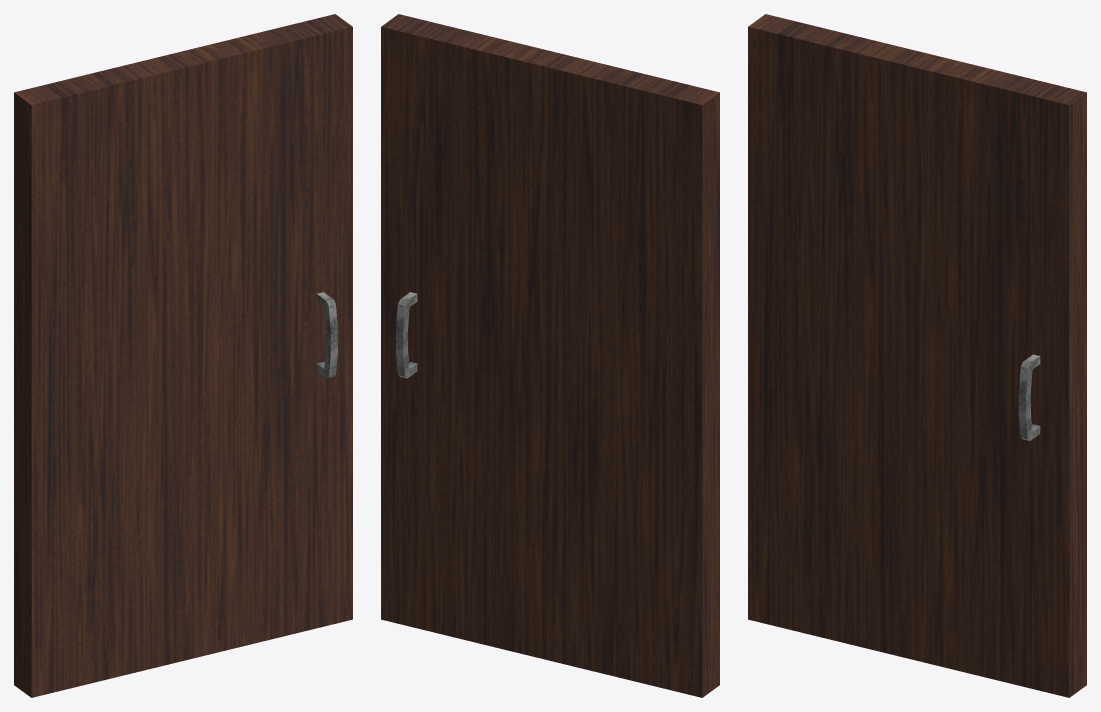
The model's file is Door.fbx.
3 renders of one model, left to right at view 1: azimuth 30°, elevation 25°; view 2: azimuth 150°, elevation 25°; view 3: azimuth 330°, elevation 25°, orthographic.
Visible parts, largest first — view 1: pCube21, pCube42; view 2: pCube21, pCube43; view 3: pCube21, pCube42.
Boxes of the visible parts, x1,y1,x2,y2 form: pCube21: (14, 14, 352, 697); pCube42: (316, 292, 337, 378); pCube21: (381, 14, 719, 697); pCube43: (396, 292, 417, 378); pCube21: (748, 14, 1086, 697); pCube42: (1018, 354, 1040, 440).
Size of the model in its own units: 183 by 322 by 45.48.
